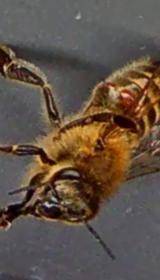varroa_mite: (115, 81, 137, 112)
